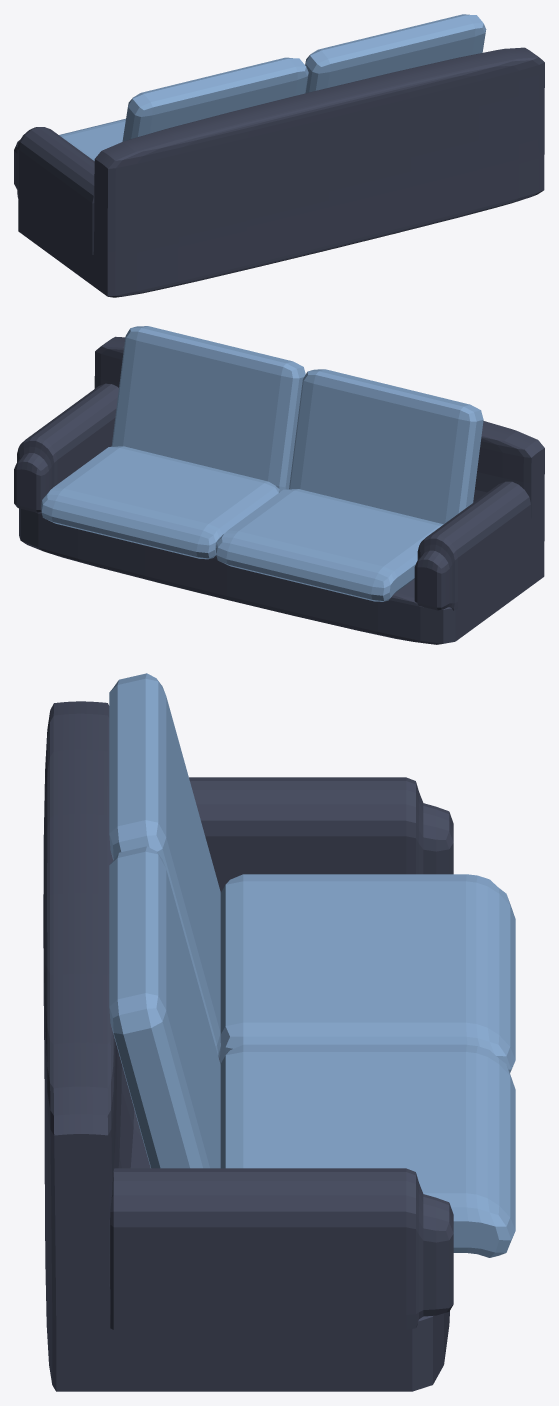
File: Sofa benar.fbx
3 views of the same model, one above another, from view 1: azimuth 30°, elevation 25°; view 2: azimuth 150°, elevation 25°; view 3: azimuth 270°, elevation 25° (orthographic). The views are drawn at different scales.
Parts seen in each view (by area): view 1: Cube, Cube.001, Cube.006, Cube.003, Cube.004; view 2: Cube, Cube.006, Cube.001, Cube.005, Cube.004, Cube.003, Cube.002; view 3: Cube, Cube.002, Cube.004, Cube.005, Cube.006, Cube.003, Cube.001.
Part boxes in pixels (box(x1,y1,x2,y2)): Cube: box(18, 47, 544, 297); Cube.001: box(122, 57, 308, 141); Cube.006: box(305, 14, 486, 93); Cube.003: box(14, 127, 94, 254); Cube.004: box(59, 118, 125, 160); Cube: box(19, 336, 544, 644); Cube.006: box(111, 326, 305, 491); Cube.001: box(289, 369, 483, 524); Cube.005: box(41, 446, 279, 559); Cube.004: box(216, 489, 443, 601); Cube.003: box(414, 481, 530, 610); Cube.002: box(14, 383, 118, 512); Cube: box(43, 701, 449, 1391); Cube.002: box(110, 1168, 453, 1329); Cube.004: box(219, 874, 515, 1072); Cube.005: box(220, 1044, 515, 1257); Cube.006: box(109, 846, 220, 1168); Cube.003: box(189, 777, 453, 892); Cube.001: box(109, 673, 220, 1058).
Bounding box in the file's own units: 1402 × 543 × 653.
